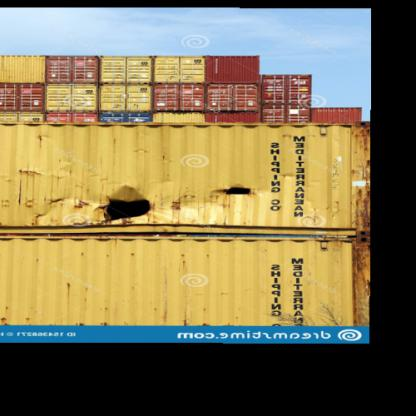Damage: (324, 120, 372, 322), (158, 173, 258, 208), (23, 180, 87, 226), (95, 184, 161, 226)
